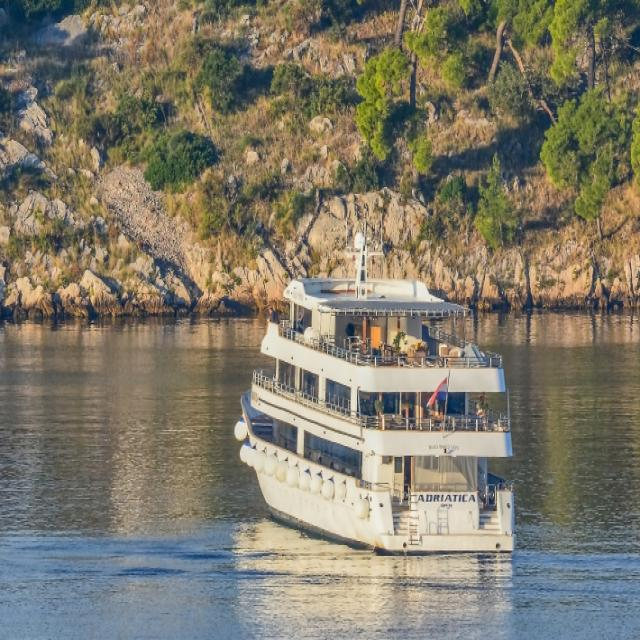cruises: (233, 226, 524, 565)
